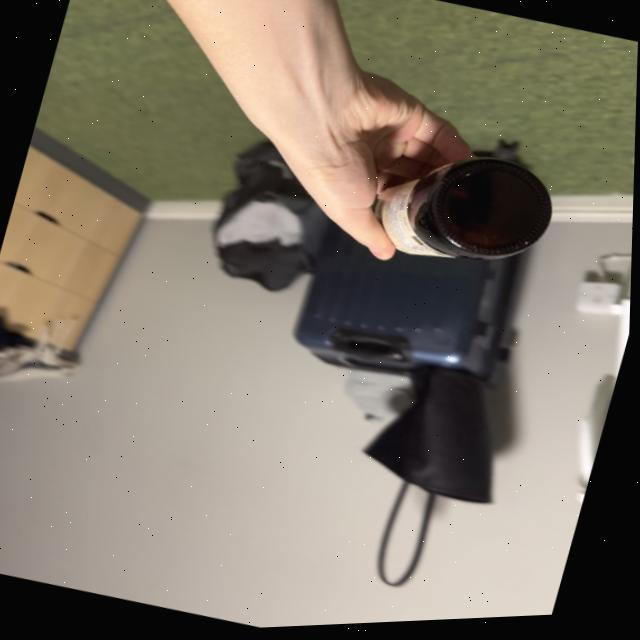beer: (347, 126, 574, 298)
